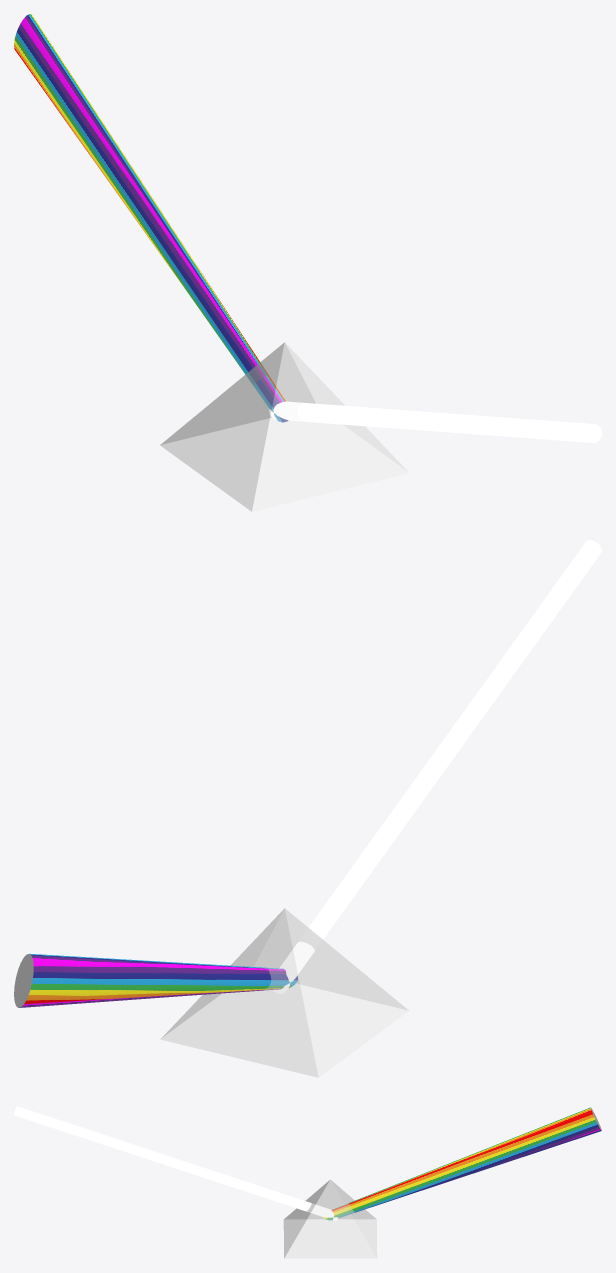
The model's file is dispersion_of_light.glb.
3 views of the same model, one above another, from view 1: azimuth 30°, elevation 25°; view 2: azimuth 150°, elevation 25°; view 3: azimuth 270°, elevation 25° (orthographic). The views are drawn at different scales.
Visible parts, largest first — view 1: pPyramid1, pCylinder2, pCylinder1; view 2: pPyramid1, pCylinder1, pCylinder2; view 3: pPyramid1, pCylinder2, pCylinder1.
Boxes of the visible parts, left/top/right/bottom form: pPyramid1: left=160, top=342, right=408, bottom=511; pCylinder2: left=14, top=14, right=288, bottom=422; pCylinder1: left=269, top=401, right=601, bottom=442; pPyramid1: left=160, top=908, right=408, bottom=1077; pCylinder1: left=273, top=540, right=601, bottom=994; pCylinder2: left=14, top=953, right=297, bottom=1007; pPyramid1: left=283, top=1179, right=377, bottom=1258; pCylinder2: left=322, top=1107, right=601, bottom=1220; pCylinder1: left=14, top=1106, right=338, bottom=1220.
Bounding box in the file's own units: 1 × 1.57 × 6.32.
Materials: 4 (1 with a texture image).
